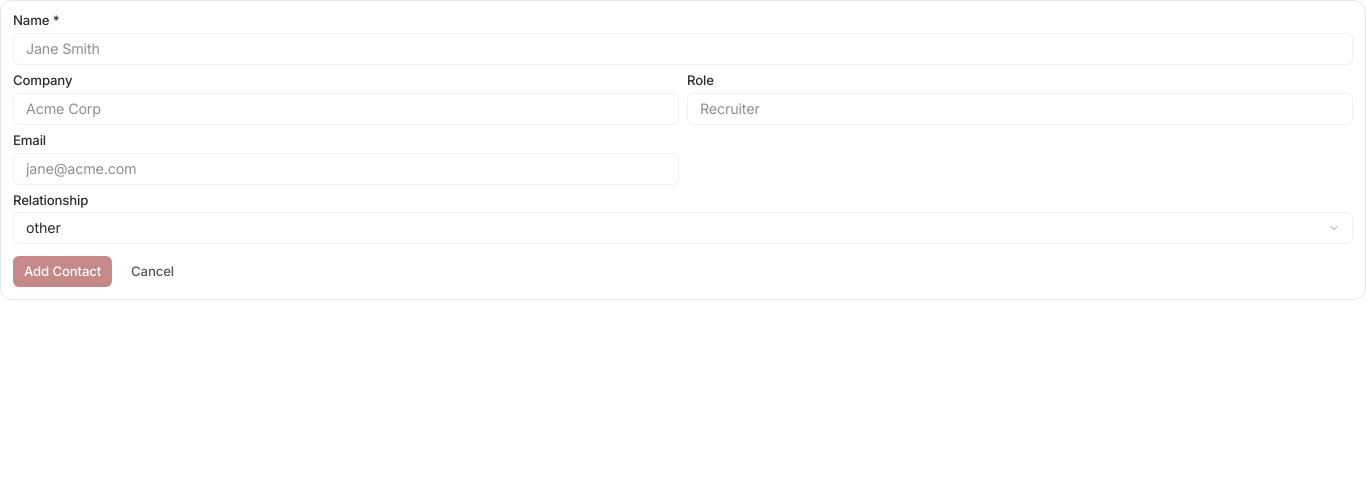
ContactForm › field updates › should update form state when relationship changes
Click the dropdown named "relationship". click: [43, 228]
box: top-left (13, 212), bottom-right (1353, 244)
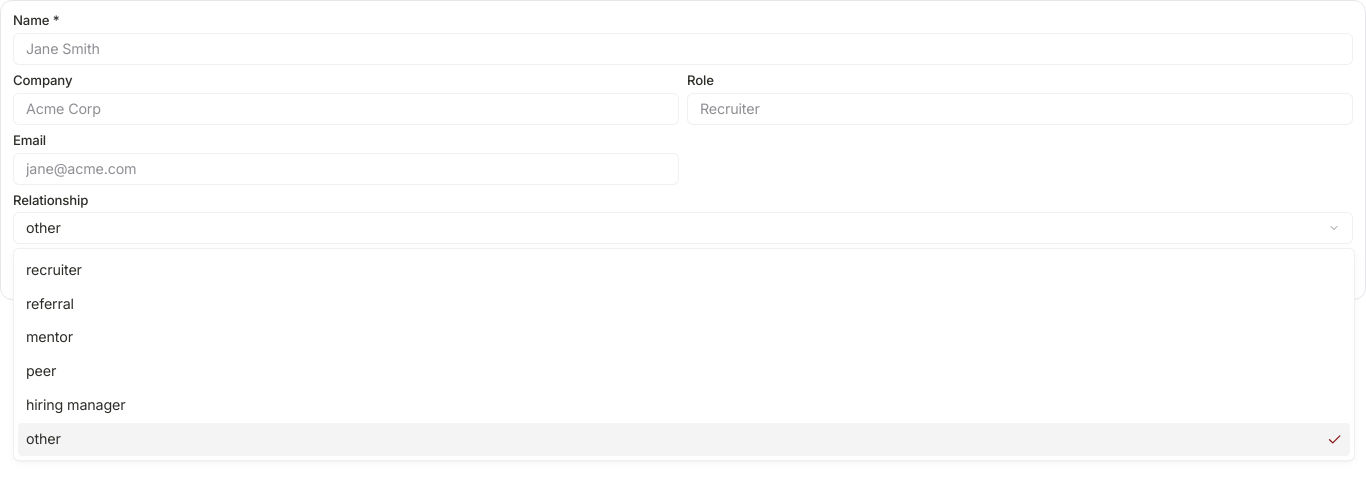
Click the option "recruiter". click: [54, 269]
box: top-left (26, 261), bottom-right (82, 278)
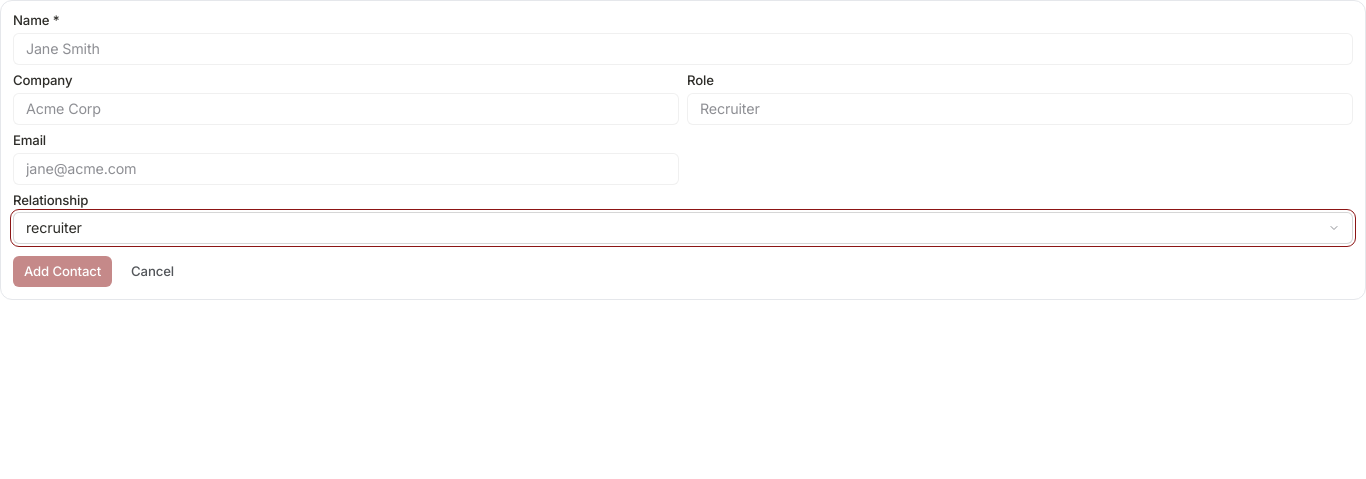
Expected: the dropdown named "relationship" reads "recruiter", top-left (13, 212), bottom-right (1353, 244)
